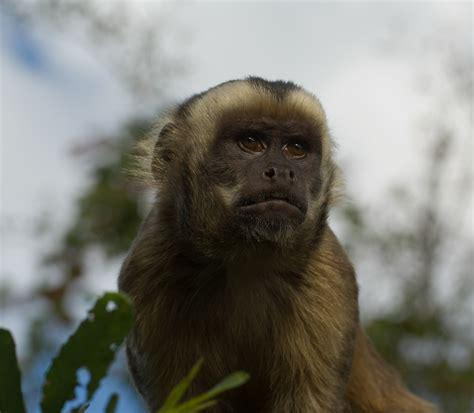monkey: (119, 78, 429, 413)
